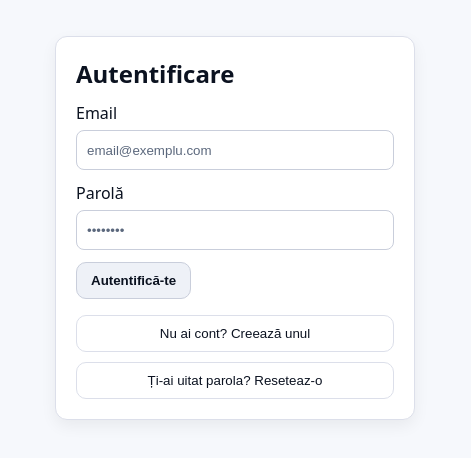
Scenario: AuthPage › afișează mesaj dacă resetarea parolei se încearcă fără email
Click the button "Ți-ai uitat parola? Reseteaz-o" at (235, 380), box [76,362,394,399]
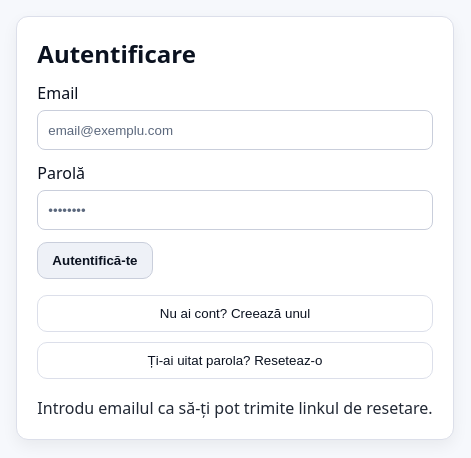
Now the text "Introdu emailul ca să-ți pot trimite linkul de resetare." is shown, box [37,397,433,419]
